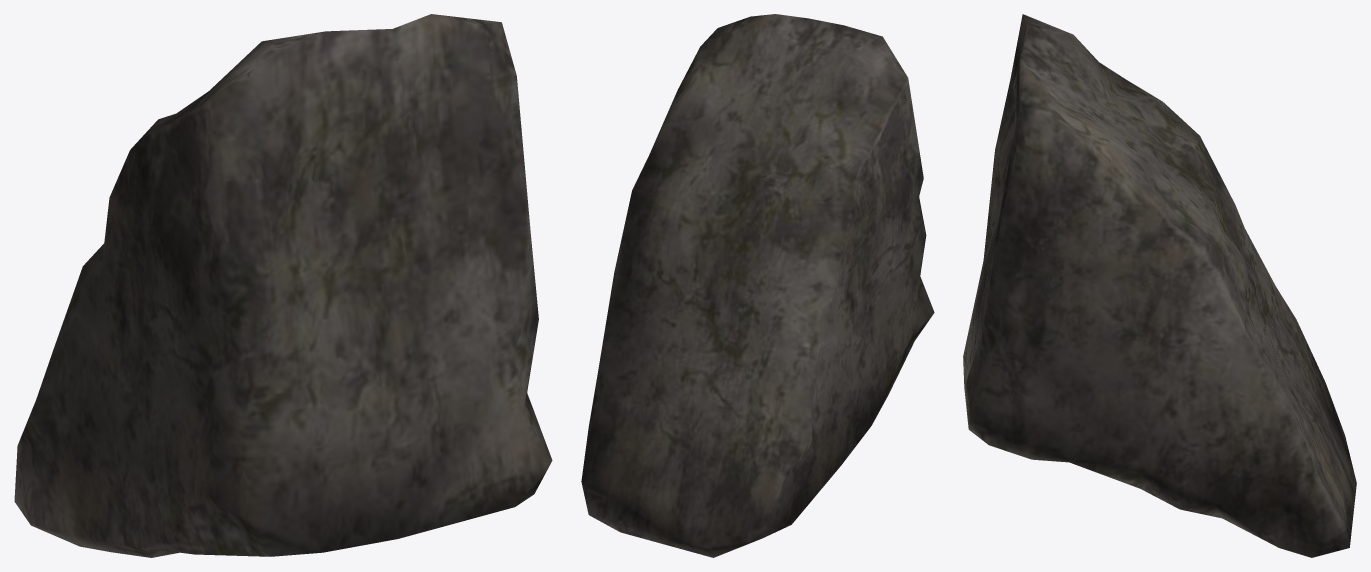
Rendered from SM_rock_02.glb.
The picture shows the model from 3 angles, left to right: view 1: azimuth 30°, elevation 25°; view 2: azimuth 150°, elevation 25°; view 3: azimuth 270°, elevation 25°; orthographic projection. The views are drawn at different scales.
Parts seen in each view (by area): view 1: SM_rock_02; view 2: SM_rock_02; view 3: SM_rock_02.
Part boxes in pixels (x1,y1,x2,y2): SM_rock_02: (14,14,552,557); SM_rock_02: (581,14,934,557); SM_rock_02: (963,14,1356,557).
Size of the model in its own units: 23.9 by 45.52 by 34.34.
1 material, 1 textured.
